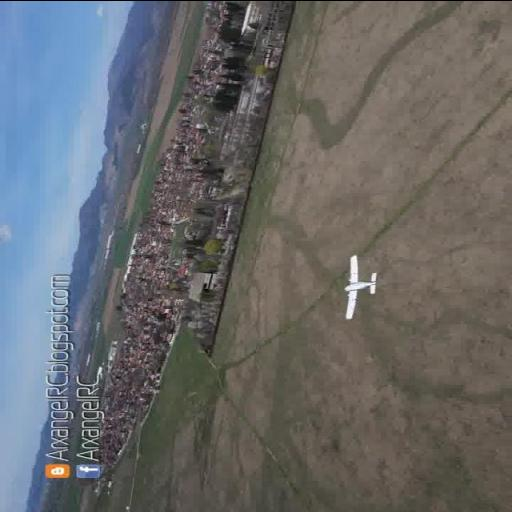uav: (335, 248, 385, 322)
